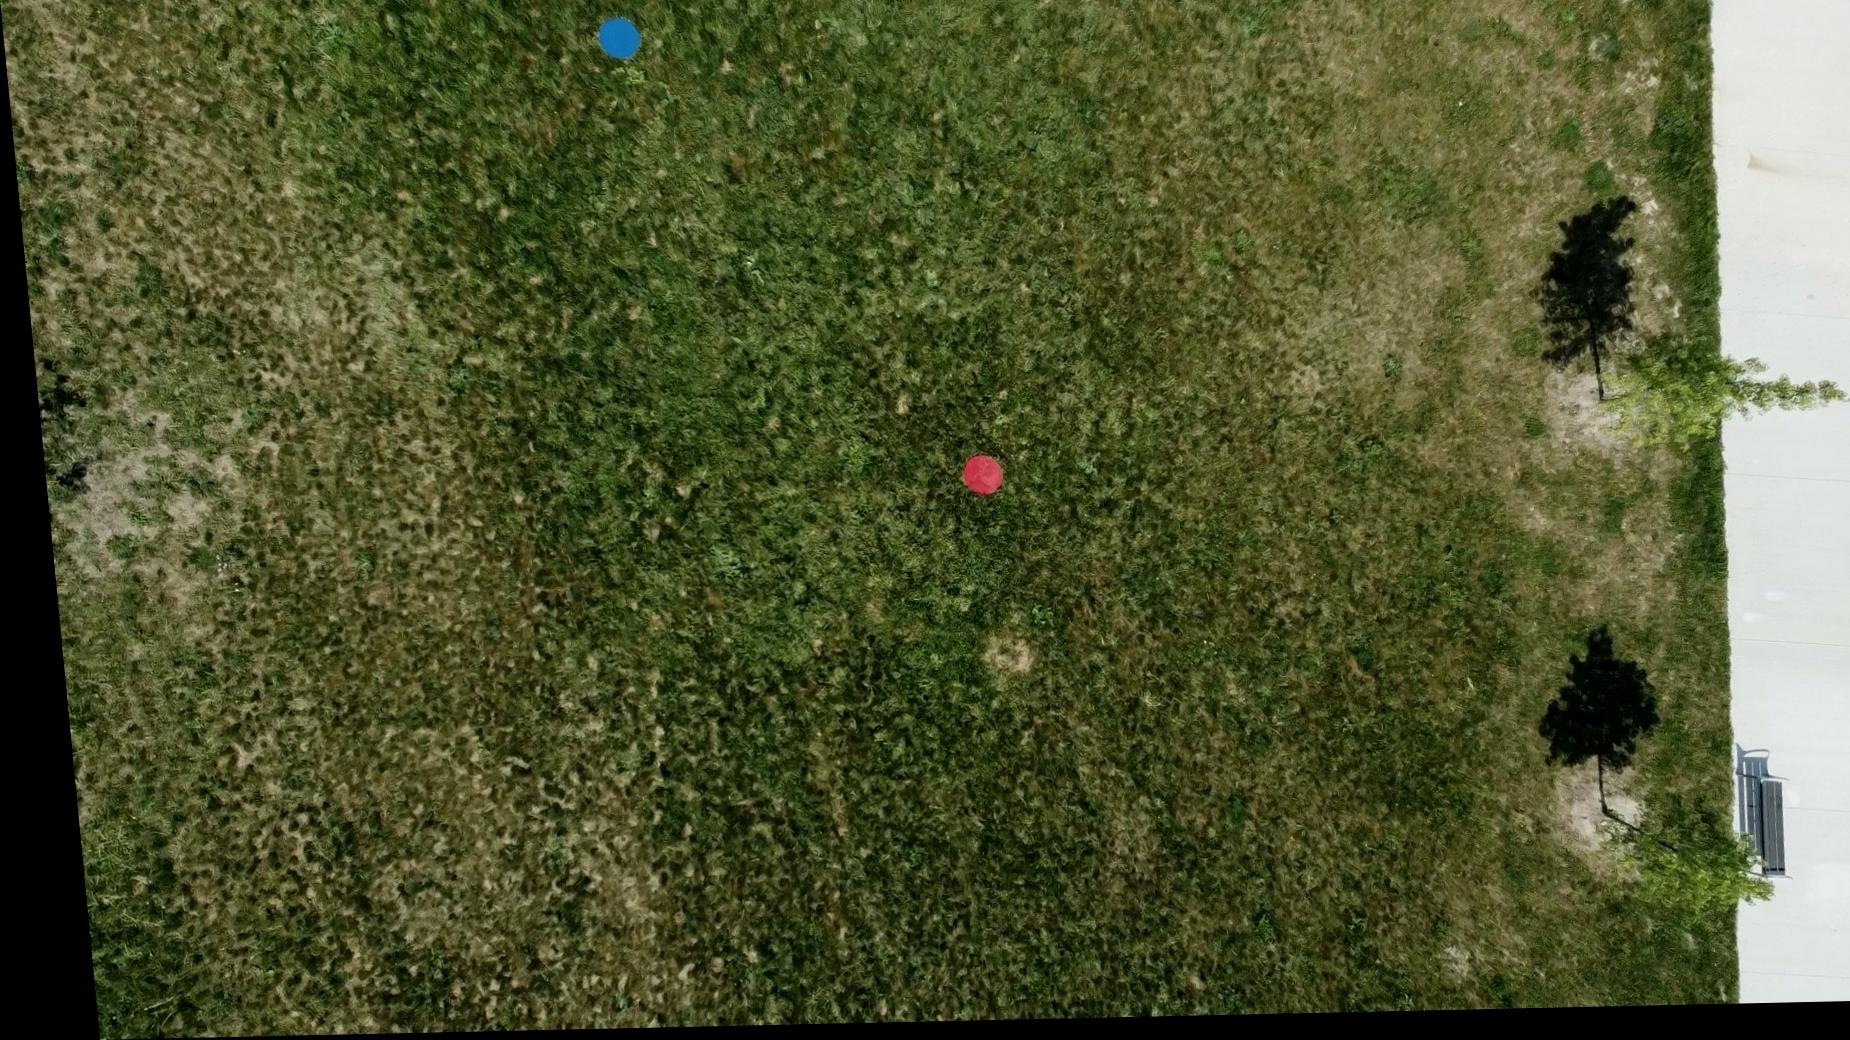Blue: (592, 18, 643, 65)
Red: (948, 457, 996, 503)
